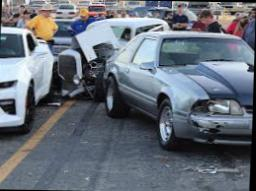Bumper: (191, 114, 240, 145)
Light: (189, 101, 245, 116)
